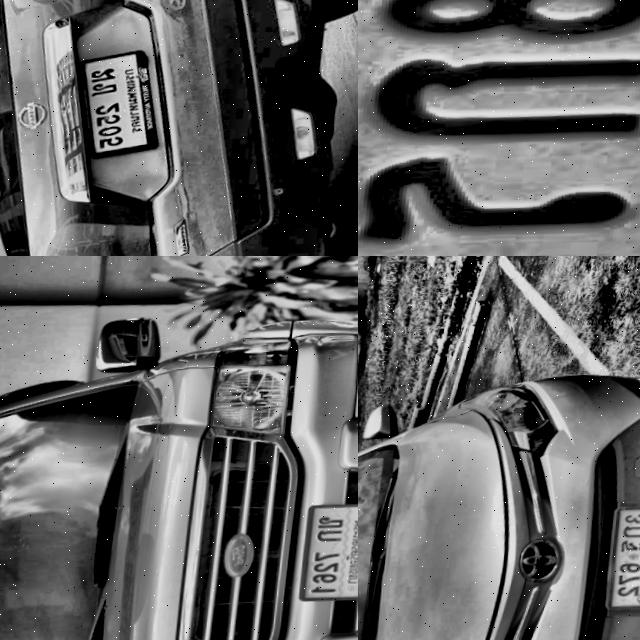license-plate: (358, 0, 640, 256), (69, 49, 173, 165), (303, 505, 358, 607), (606, 507, 640, 621)
